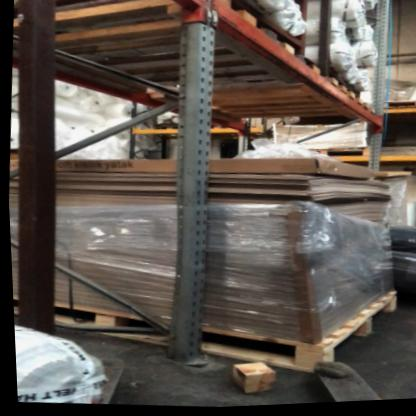vertical_damage: (167, 318, 226, 376)
